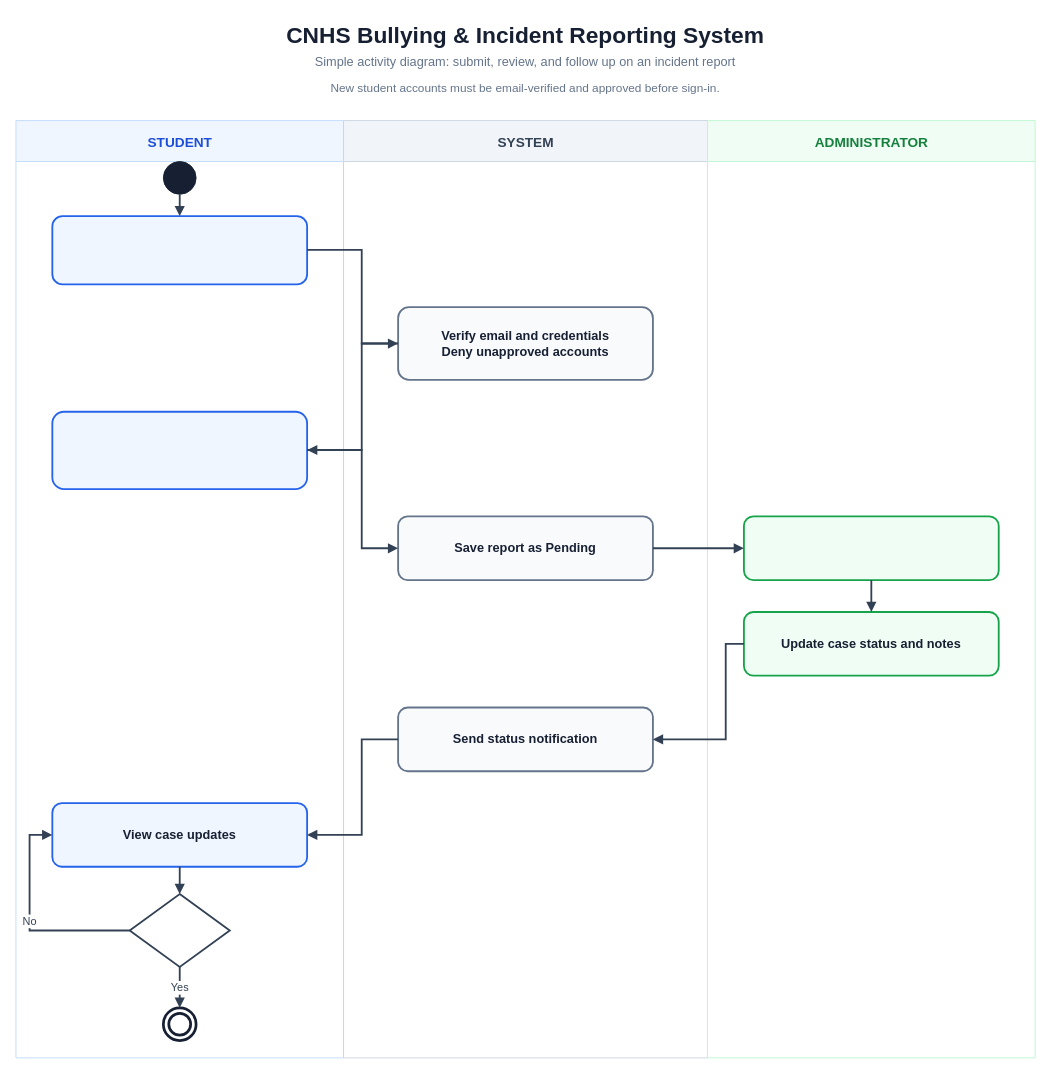
The diagram is 1051 pixels wide and 1074 high, and some of its shapes have lost their labels. The shapes that lost their labels are listed below. From the top down, each one's centre as x and y in pixels, then its label:
the point at 179,250: Open system Register or sign in
the point at 179,450: View awareness resources Complete incident report
the point at 871,548: Review and investigate report
the point at 179,930: Resolved?
